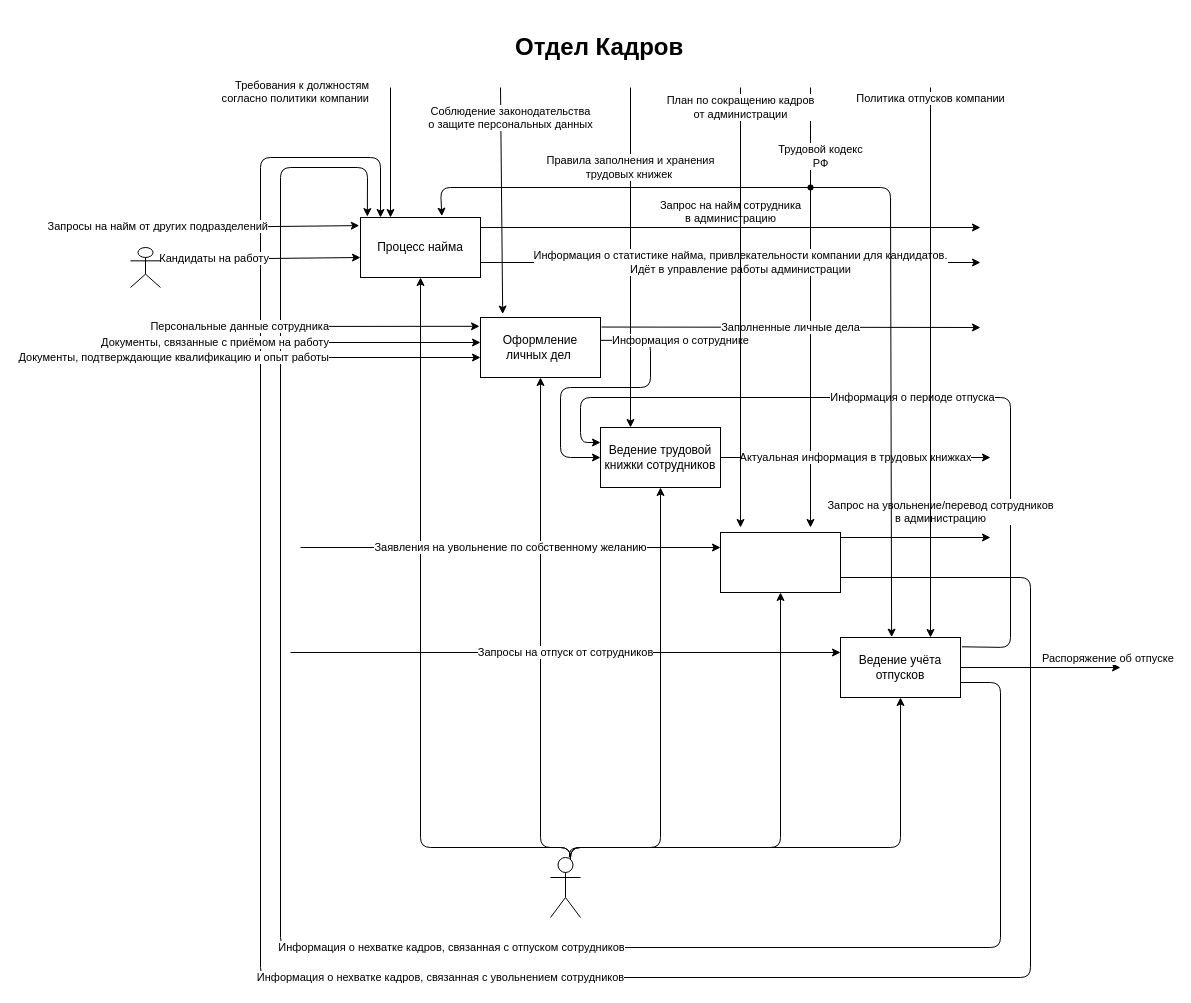
This 1191x1003 diagram has some shape labels left out. The centre of each missing label's shape, as x and y in pixels:
"Сотрудники отдела кадров" goes at (565,887).
"Управление увольнениями и переводами" goes at (780,562).
